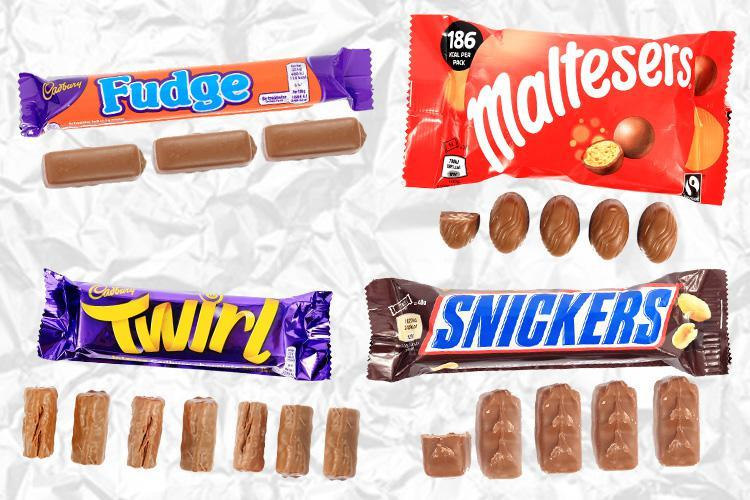snickers: (429, 287, 671, 347)
